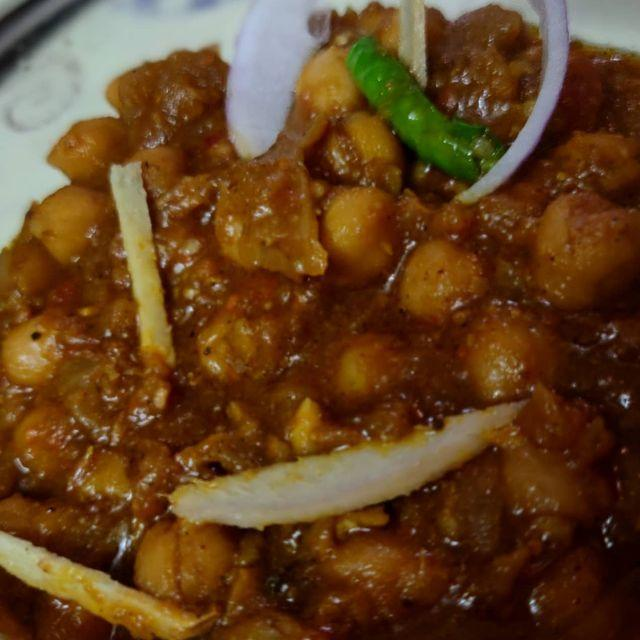Chole: (20, 18, 640, 592)
